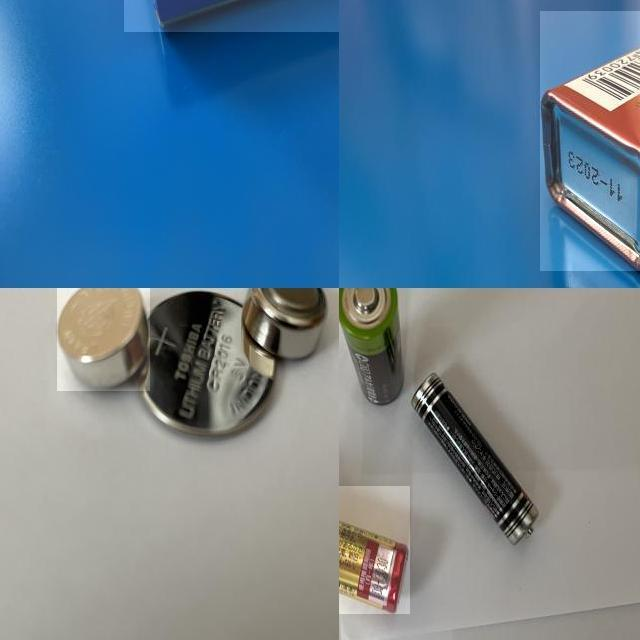9V: (540, 10, 640, 271)
